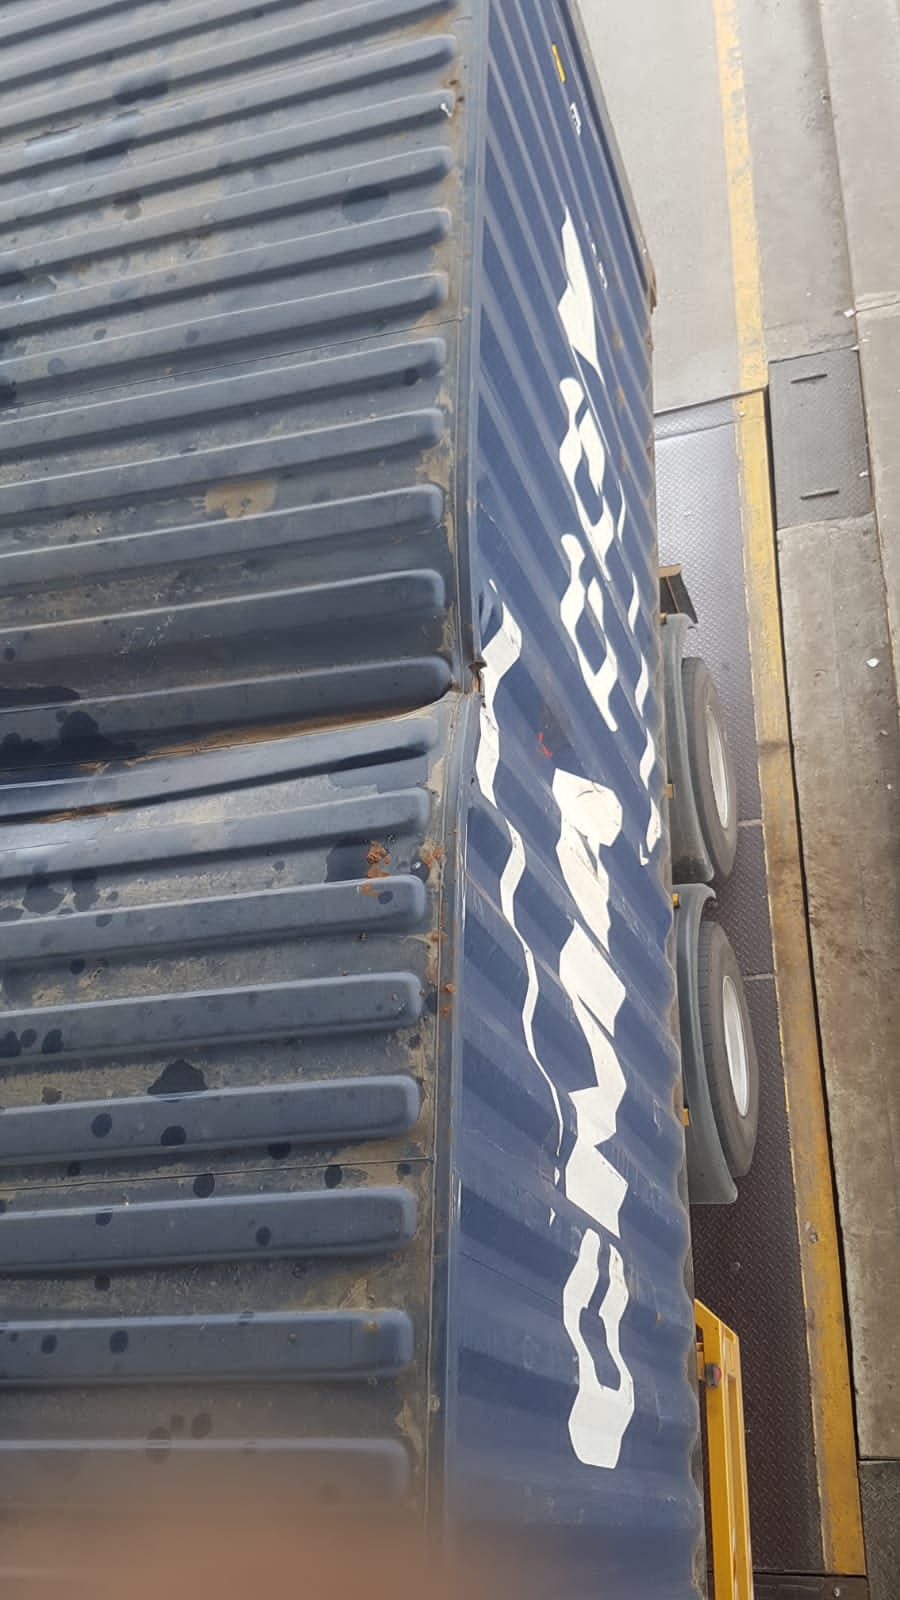dented: (23, 559, 495, 949)
